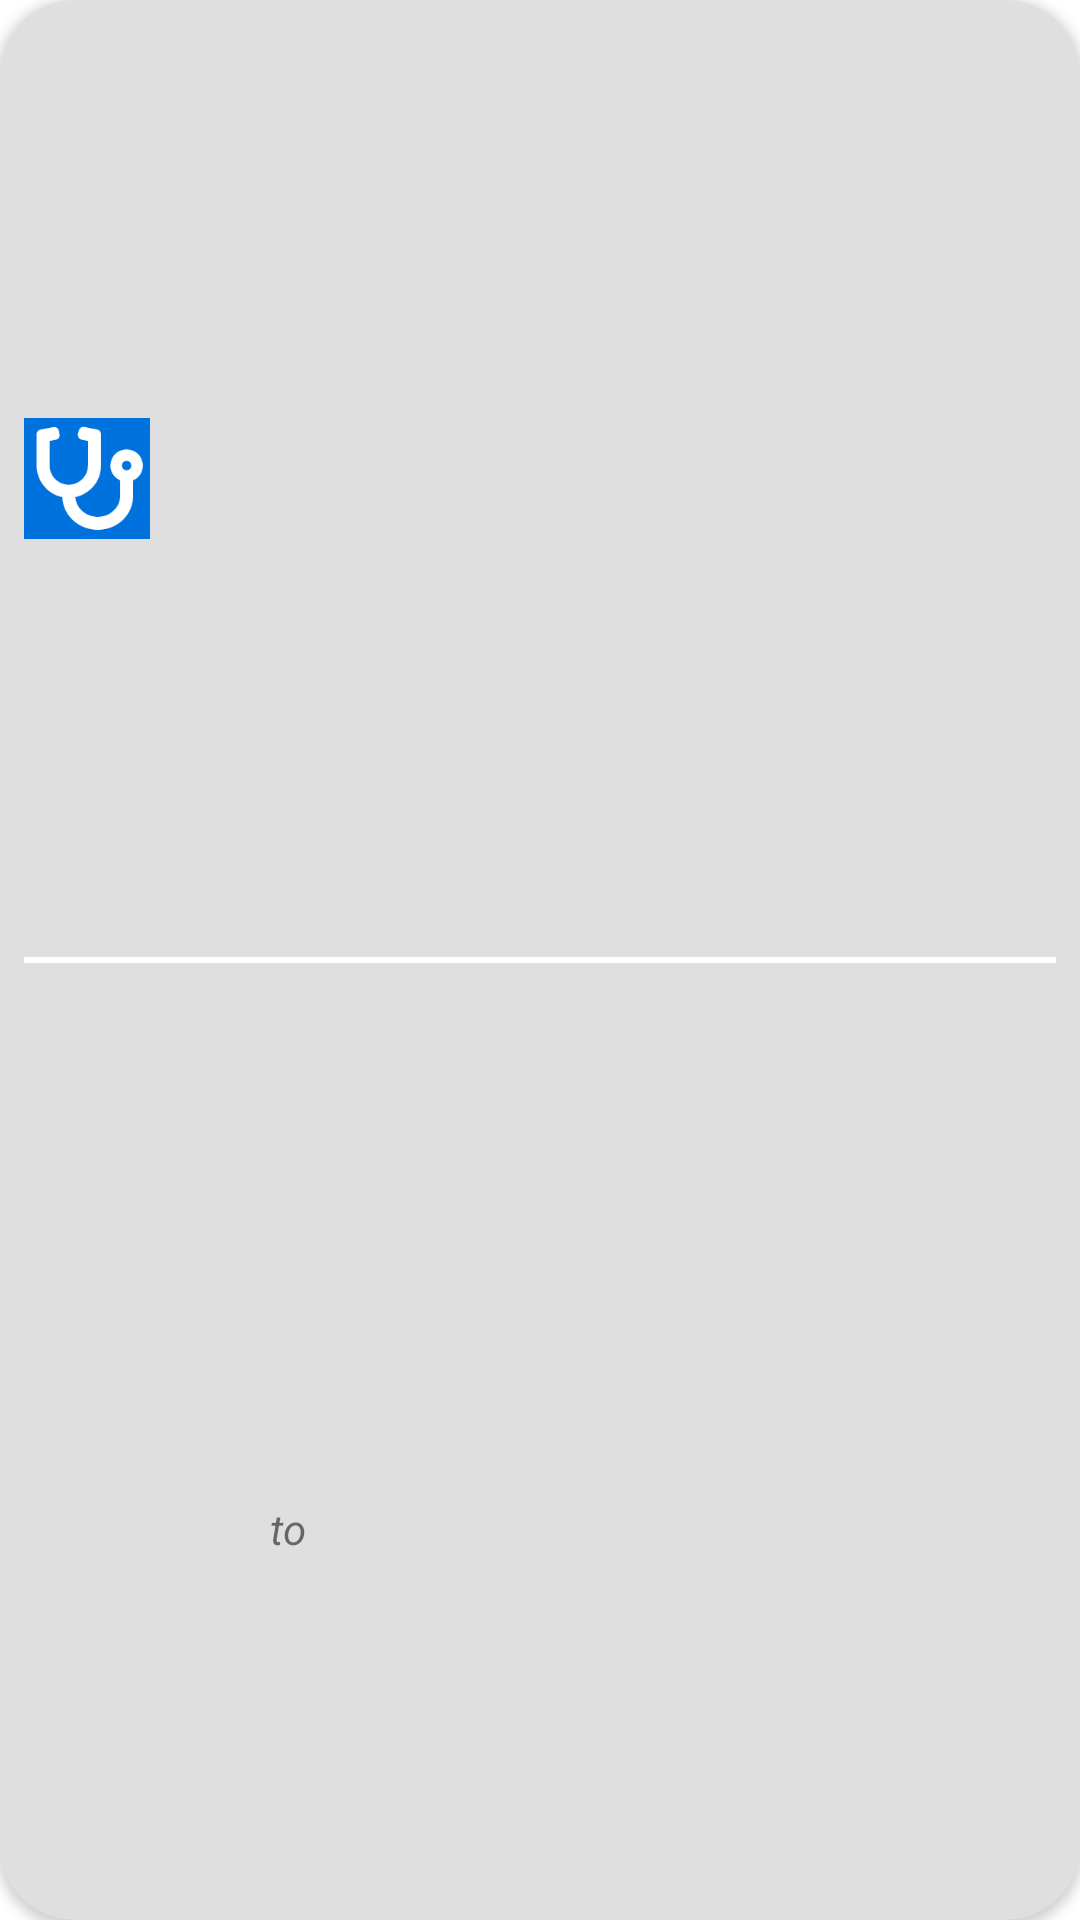

Icons on this 1080x1920 Android screen, each with its box as (x1, y1, x2, y2):
appicon: (24, 418, 150, 539)
